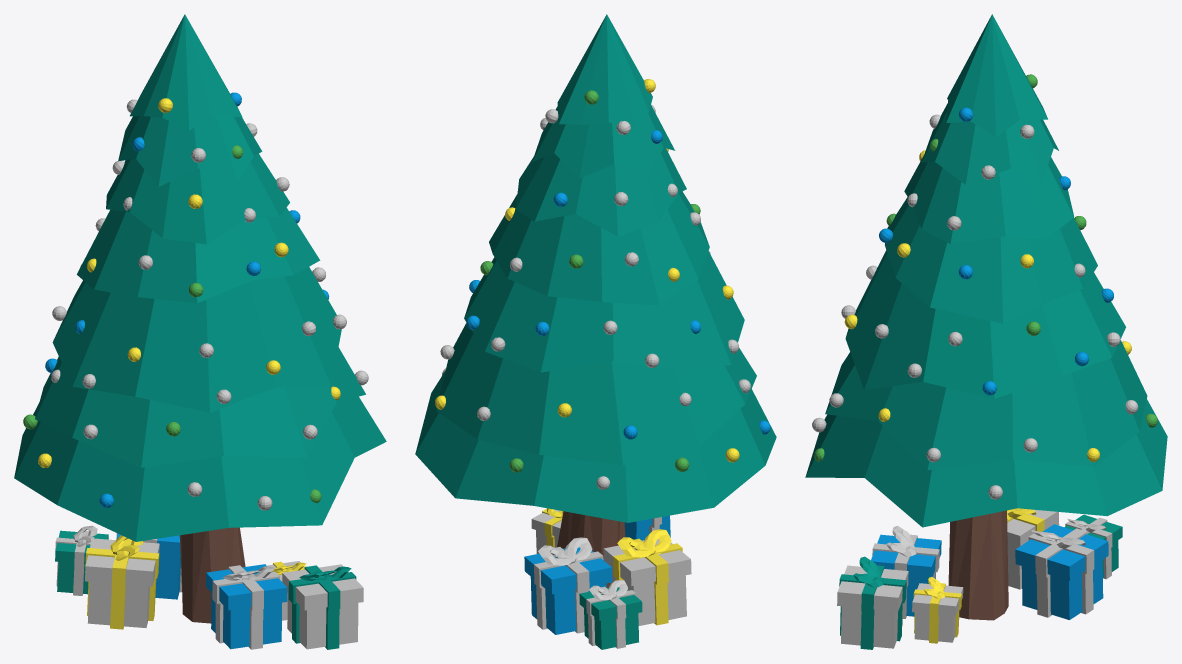
Rendered from duck.obj.
3 views of the same model, side by side, from view 1: azimuth 30°, elevation 25°; view 2: azimuth 150°, elevation 25°; view 3: azimuth 270°, elevation 25° (orthographic). The views are drawn at different scales.
Parts seen in each view (by area): view 1: group1172644466, group313069409, group1057669938; view 2: group1172644466, group1057669938, group313069409; view 3: group1172644466, group313069409, group1057669938.
Part boxes in pixels (x1,y1,x2,y2): group1172644466: (14,14,386,623); group313069409: (206,561,363,649); group1057669938: (55,525,181,629); group1172644466: (415,14,776,587); group1057669938: (524,529,691,649); group313069409: (531,508,670,553); group1172644466: (805,14,1167,620); group313069409: (837,526,963,649); group1057669938: (1007,508,1122,619).
Size of the model in its own units: 0.4829 by 0.8848 by 0.4926.
